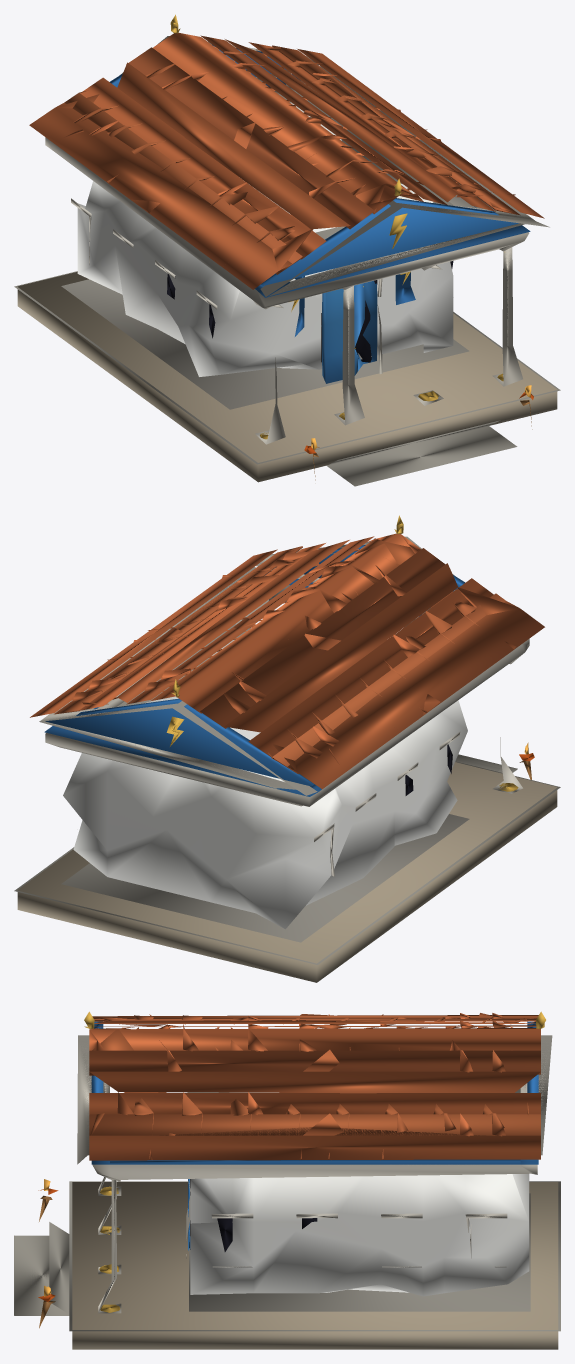
The model's file is civic_library.glb.
3 renders of one model, top to bottom at view 1: azimuth 30°, elevation 25°; view 2: azimuth 150°, elevation 25°; view 3: azimuth 270°, elevation 25°, orthographic.
Parts seen in each view (by area): view 1: stone, terracotta0, hall.001, marble, terracotta2, terracotta1, paint_azure, step, azure_wood, gold, dark, cloth_azure; view 2: hall.001, terracotta0, stone, terracotta2, marble, terracotta1, paint_azure, step, gold; view 3: hall.001, stone, terracotta0, terracotta1, terracotta2, marble, step, paint_azure, gold, dark.
Boxes of the visible parts, left/top/right/bottom form: stone: left=17, top=272, right=557, bottom=482; terracotta0: left=29, top=39, right=544, bottom=289; hall.001: left=77, top=102, right=453, bottom=376; marble: left=45, top=36, right=549, bottom=444; terracotta2: left=80, top=32, right=495, bottom=259; terracotta1: left=64, top=35, right=520, bottom=274; paint_azure: left=110, top=44, right=530, bottom=297; step: left=14, top=271, right=560, bottom=486; azure_wood: left=321, top=280, right=377, bottom=383; gold: left=170, top=14, right=503, bottom=439; dark: left=167, top=261, right=453, bottom=362; cloth_azure: left=294, top=272, right=415, bottom=336; hall.001: left=63, top=639, right=467, bottom=929; terracotta0: left=30, top=538, right=544, bottom=789; stone: left=17, top=762, right=557, bottom=982; terracotta2: left=80, top=533, right=493, bottom=757; marble: left=39, top=536, right=529, bottom=942; terracotta1: left=54, top=536, right=505, bottom=773; paint_azure: left=44, top=545, right=465, bottom=796; step: left=14, top=754, right=560, bottom=964; gold: left=166, top=515, right=518, bottom=791; hall.001: left=190, top=1092, right=529, bottom=1296; stone: left=72, top=1182, right=558, bottom=1349; terracotta0: left=89, top=1013, right=540, bottom=1160; terracotta1: left=89, top=1013, right=540, bottom=1136; terracotta2: left=89, top=1013, right=540, bottom=1159; marble: left=77, top=1035, right=552, bottom=1313; step: left=14, top=1181, right=560, bottom=1331; paint_azure: left=91, top=1021, right=538, bottom=1164; gold: left=84, top=1011, right=545, bottom=1312; dark: left=190, top=1179, right=317, bottom=1251.
Size of the model in its own units: 10.36 by 8.53 by 15.98.
